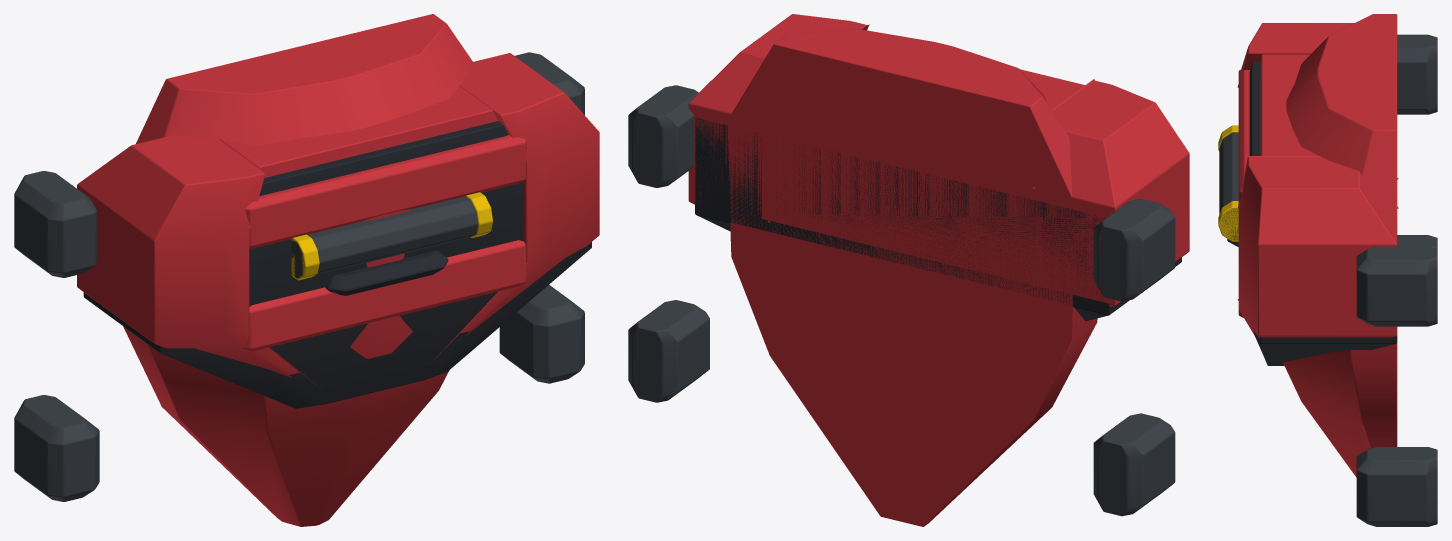
The model's file is UpperArmBack_Set02_Bastion.fbx.
3 renders of one model, left to right at view 1: azimuth 30°, elevation 25°; view 2: azimuth 150°, elevation 25°; view 3: azimuth 270°, elevation 25°, orthographic. The views are drawn at different scales.
Visible parts, largest first — view 1: UpperArmBack_Set02_Bastion; view 2: UpperArmBack_Set02_Bastion; view 3: UpperArmBack_Set02_Bastion.
Boxes of the visible parts, x1,y1,x2,y2 form: UpperArmBack_Set02_Bastion: [14, 14, 599, 526]; UpperArmBack_Set02_Bastion: [628, 14, 1189, 526]; UpperArmBack_Set02_Bastion: [1218, 14, 1437, 526].
Size of the model in its own units: 0.41 by 0.34 by 0.1621.
